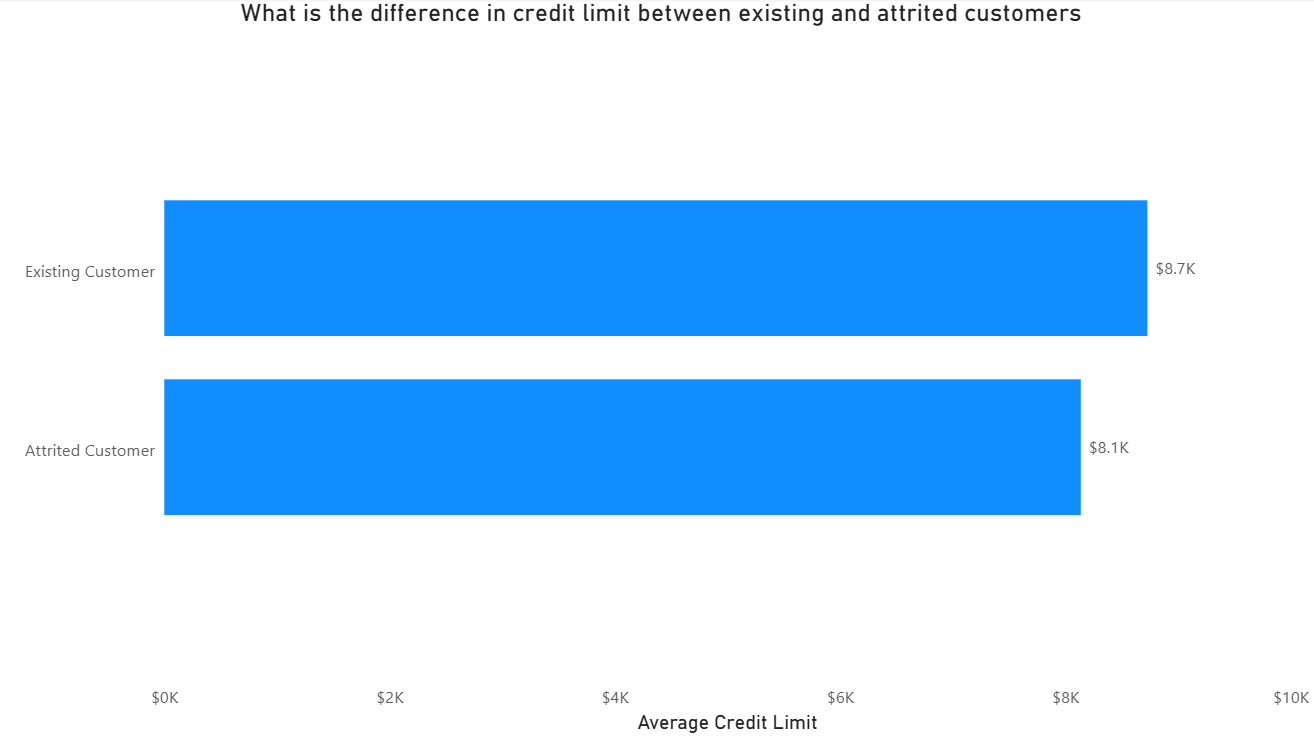

What the dashboard file says about the page in this screenshot:
{"tool":"powerbi","page":{"name":"1st Finding","canvas":[1280,720],"ordinal":0},"visuals":[{"type":"barChart","title":"What is the difference in credit limit between existing and attrited customers","fields":{"Category":["Findings_1.attrition_flag"],"Y":["Avg(Findings_1.avg_credit_limit)"]},"box":[9.8,0,1270.6,720],"z":0}]}

Visuals, with their boxes in screenshot pixels (x1, y1, x2, y2), scaled from the page's 1280x720 canvas onto the 1314x738 screenshot:
"What is the difference in credit limit between existing and attrited customers" barChart: Rect(10, 0, 1313, 737)
